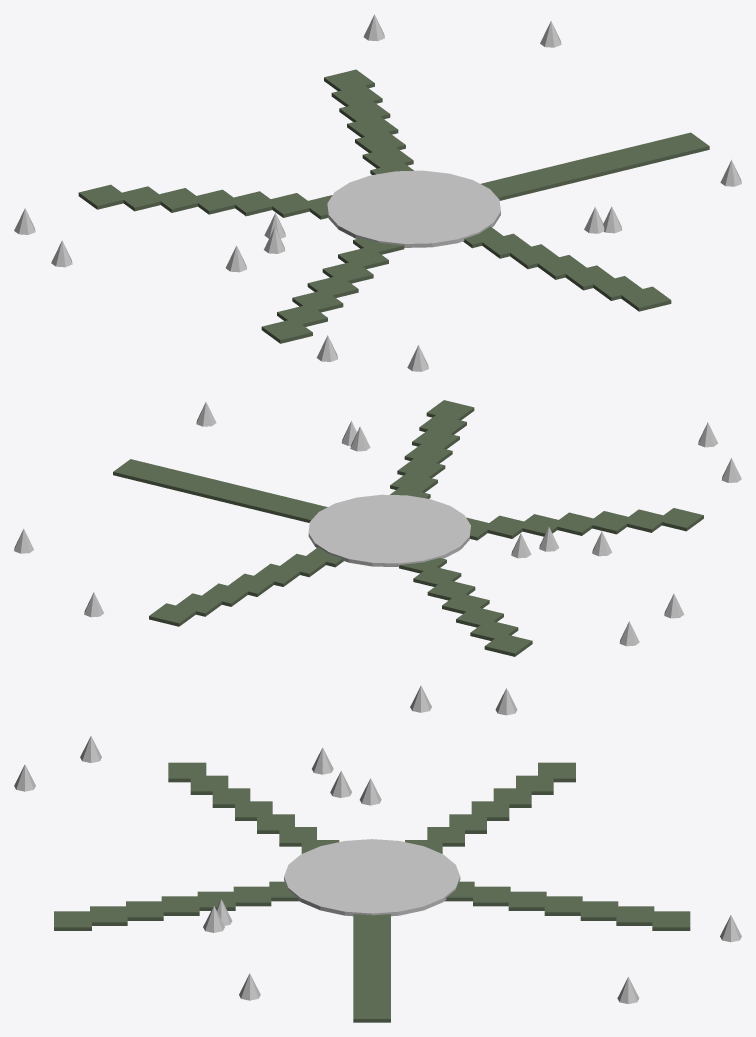
File: layout_main.obj
3 renders of one model, top to bottom at view 1: azimuth 30°, elevation 25°; view 2: azimuth 150°, elevation 25°; view 3: azimuth 270°, elevation 25°, orthographic. The views are drawn at different scales.
Parts seen in each view (by area): view 1: paths, plaza, scatter; view 2: paths, plaza, scatter; view 3: paths, plaza, scatter.
Part boxes in pixels (bbox=[...]): paths: bbox=[78, 69, 709, 343]; plaza: bbox=[327, 170, 500, 247]; scatter: bbox=[14, 14, 741, 371]; paths: bbox=[113, 400, 703, 656]; plaza: bbox=[308, 494, 470, 566]; scatter: bbox=[14, 402, 741, 646]; paths: bbox=[54, 762, 690, 1022]; plaza: bbox=[284, 839, 460, 916]; scatter: bbox=[14, 685, 741, 1003].
Bounding box in the file's own units: 57.66 × 3.08 × 57.86.
